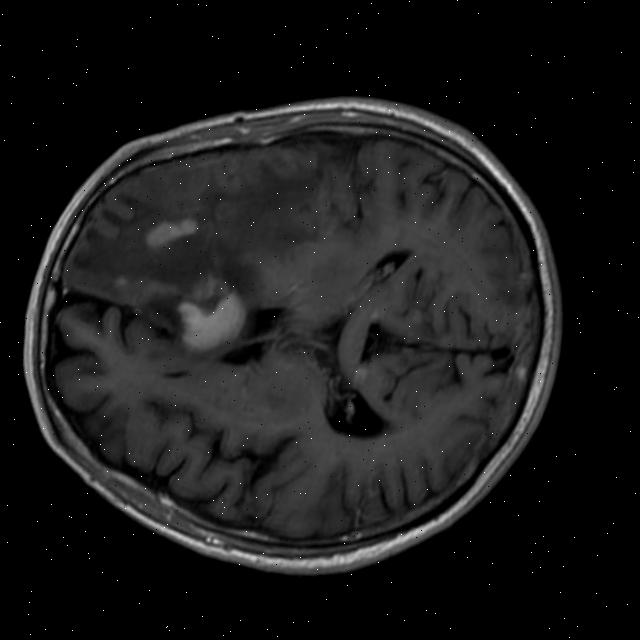Glioma: (165, 277, 253, 360), (141, 207, 202, 257)
